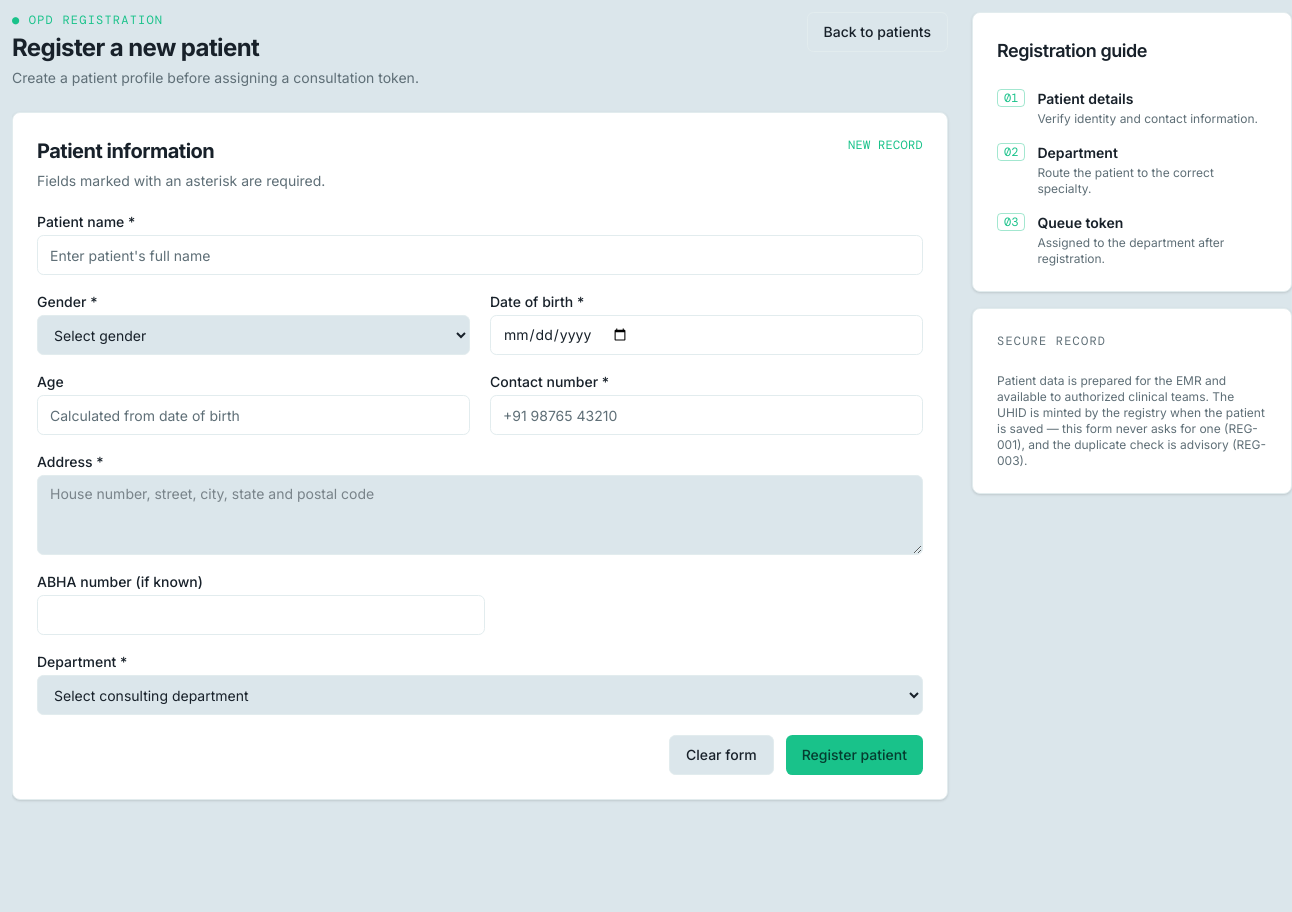
Test: PatientRegistration › registers a patient and renders the server-minted UHID and token, never a client-entered one
The width and height of the screenshot is (1292, 912).
In the field labelled "Patient name *": [480, 255] box [37, 235, 923, 275], type "Asha Lakshmi"
Select "Female" in the dropdown labelled "Gender *": [254, 335] box [37, 315, 470, 355]
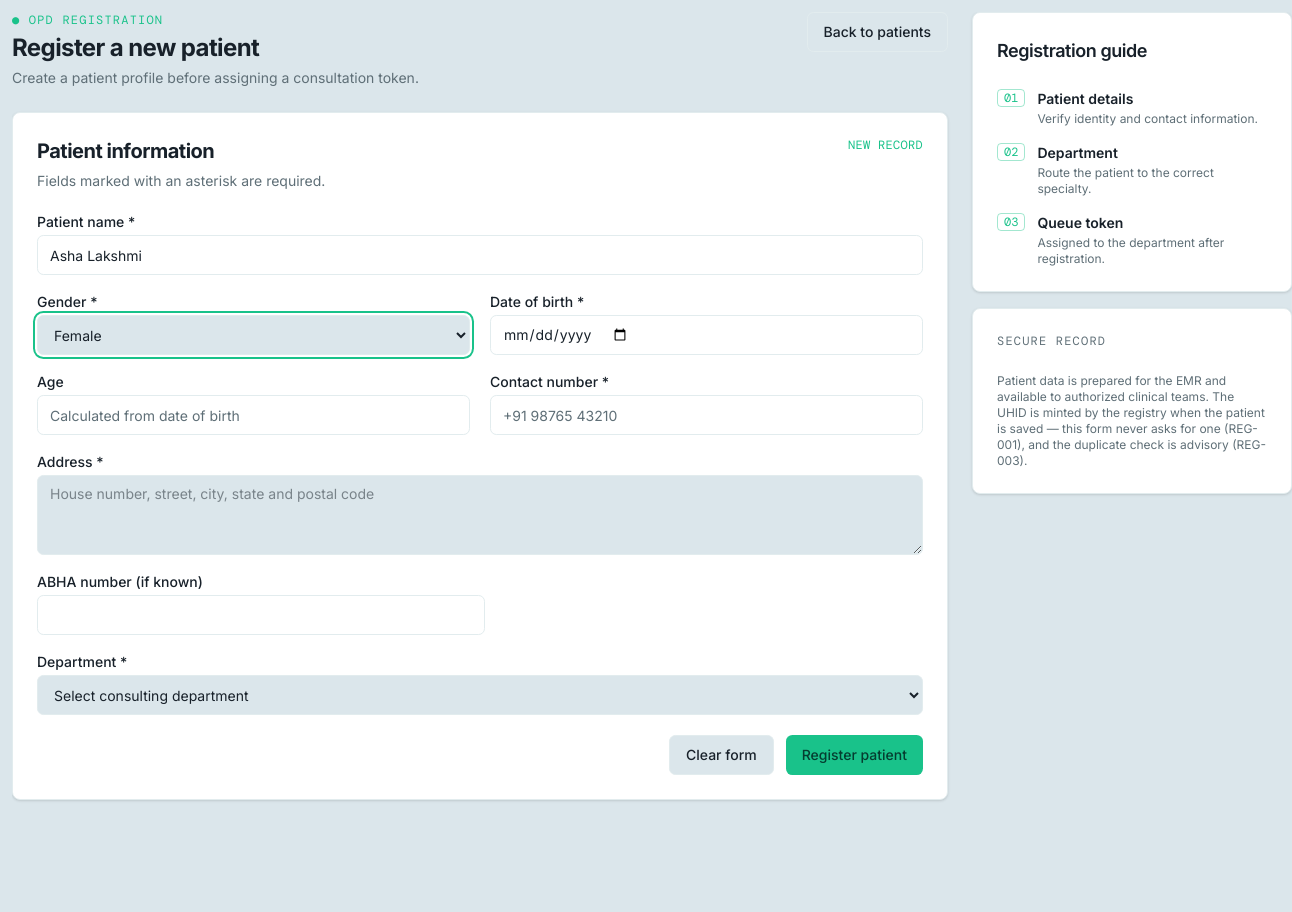
In the date field labelled "Date of birth *": [706, 335] box [490, 315, 923, 355], type "1984-03-12"
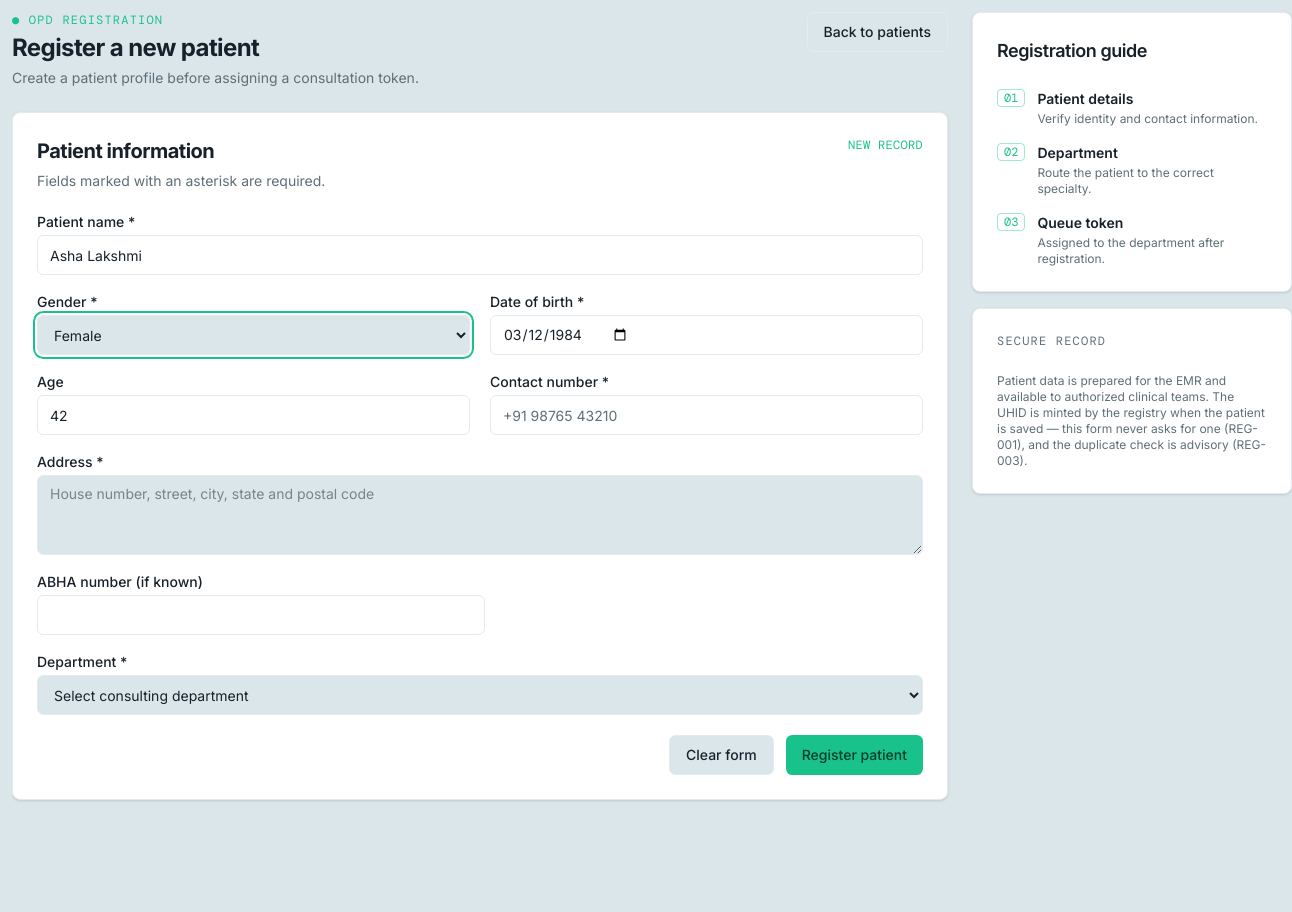
In the text box labelled "Address *": [480, 515] box [37, 475, 923, 555], type "12 MG Road, Mysuru"
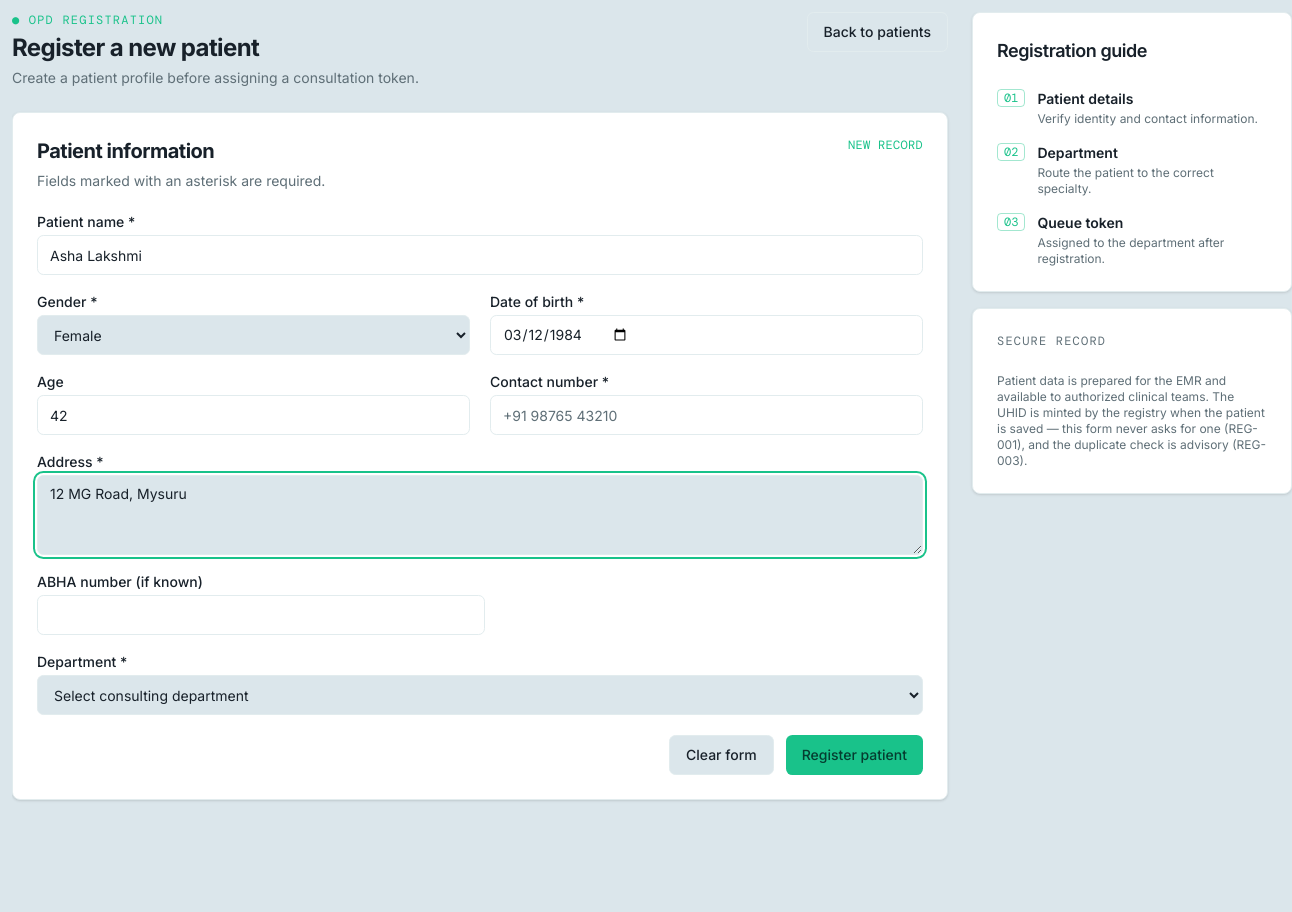
In the field labelled "Contact number *": [706, 415] box [490, 395, 923, 435], type "9876543210"
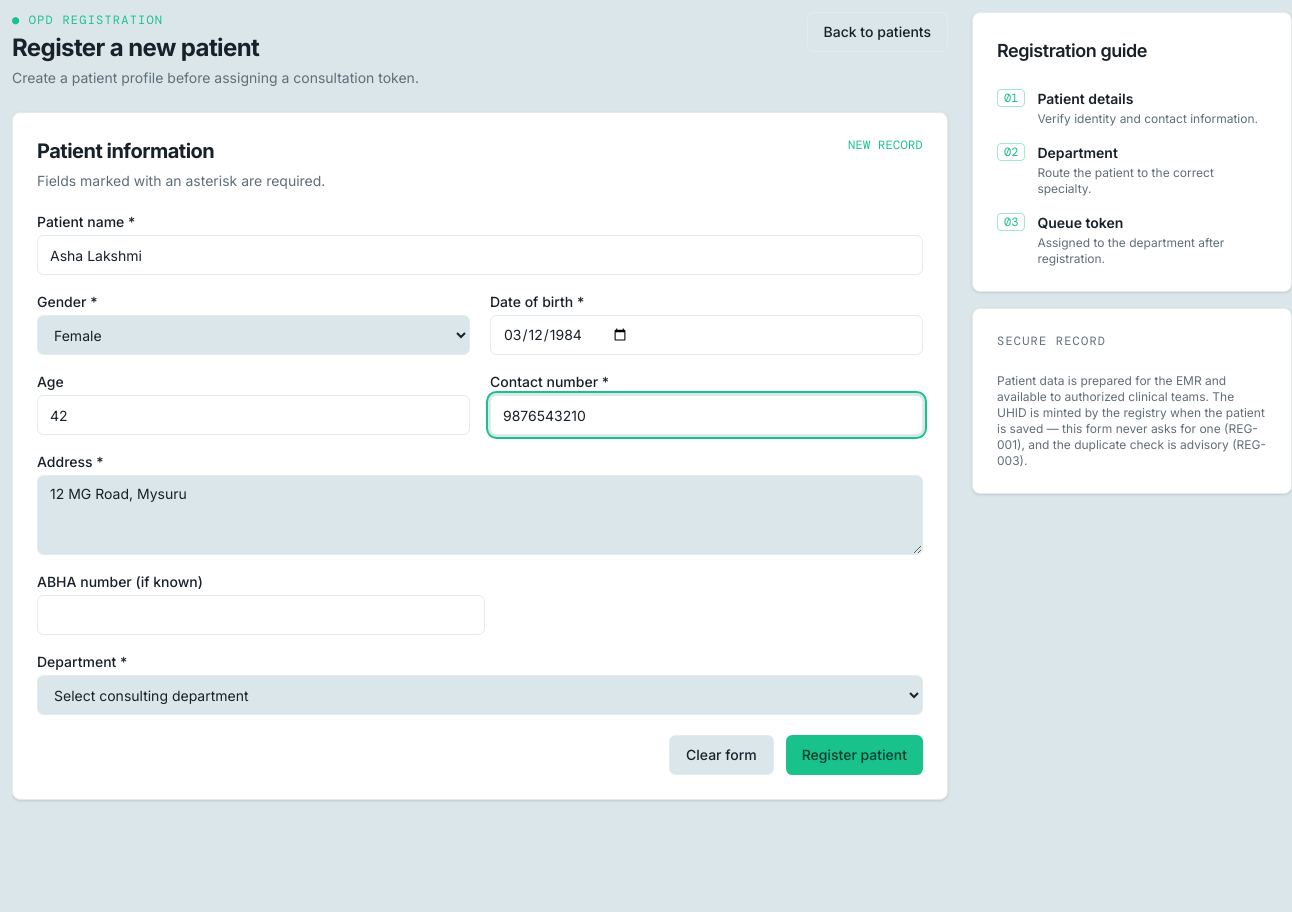
Select "General Medicine" in the dropdown labelled "Department *": [480, 695] box [37, 675, 923, 715]
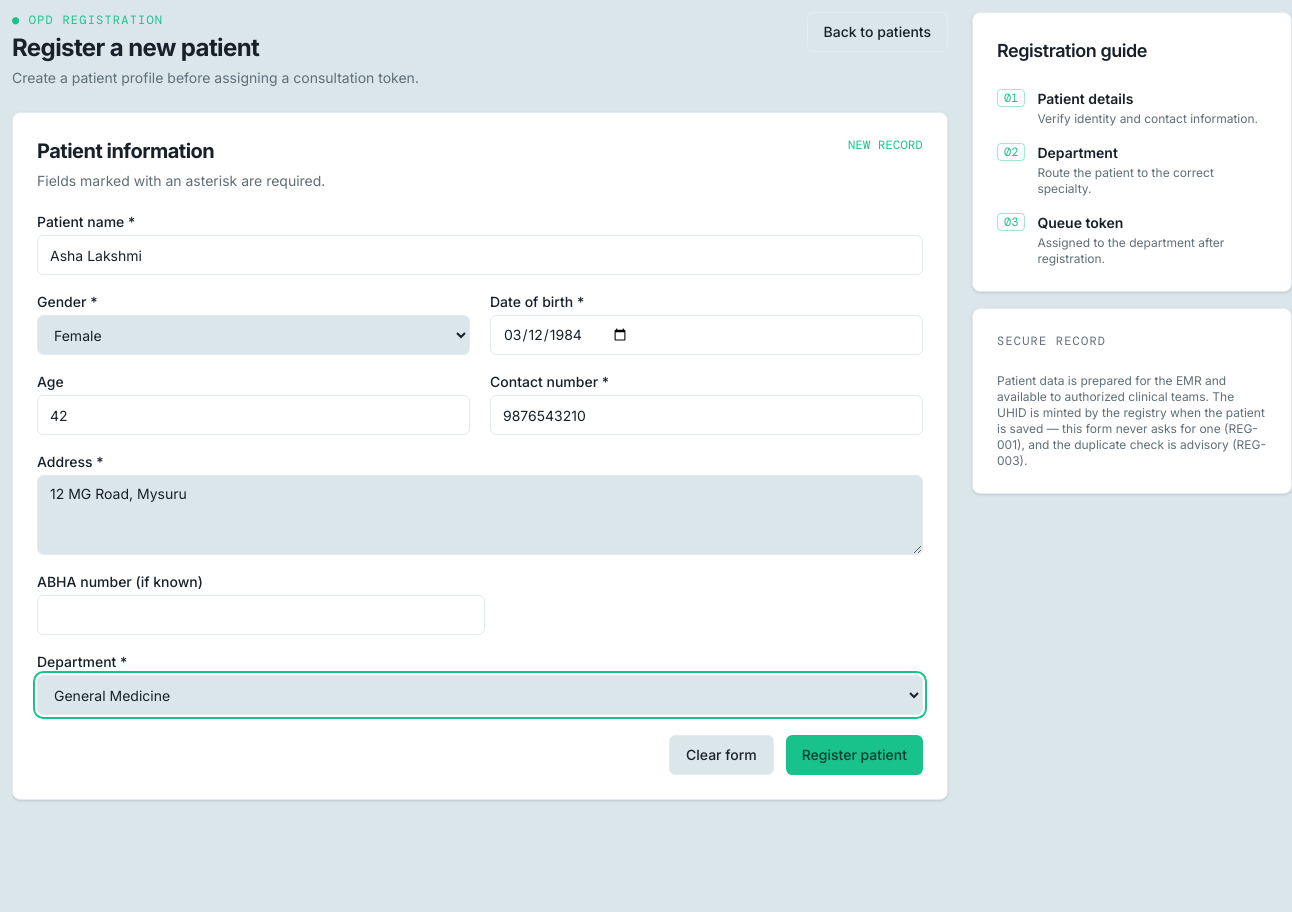
Click the button "Register patient": [854, 755] box [786, 735, 923, 775]
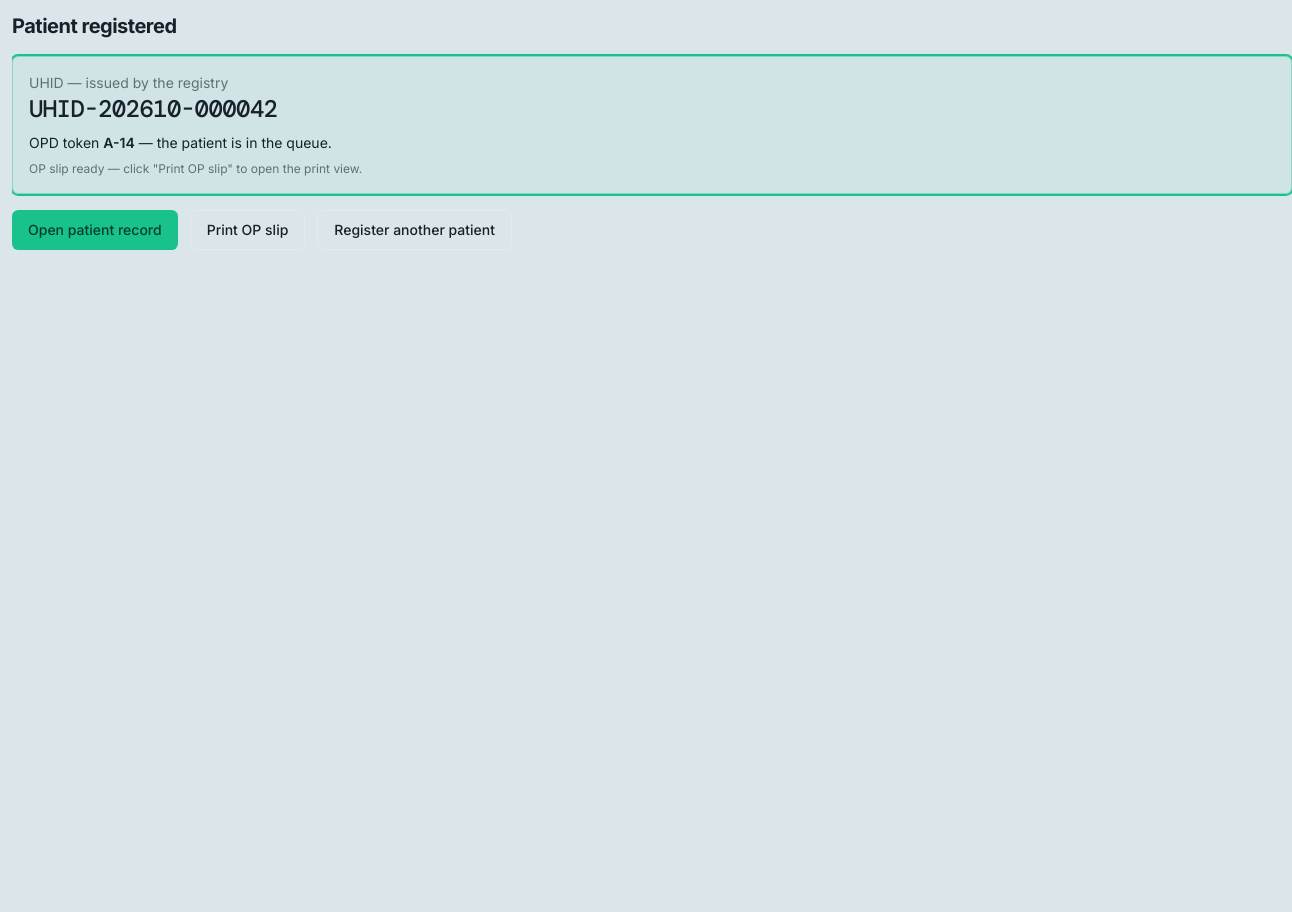
Expected: the text "UHID-202610-000042" is shown, [29, 93, 277, 124]
Expected: the text "A-14" is shown, [103, 134, 135, 151]
Expected: the text "OP slip ready — click \"Print OP slip\" to open the print view." is shown, [29, 161, 362, 176]
